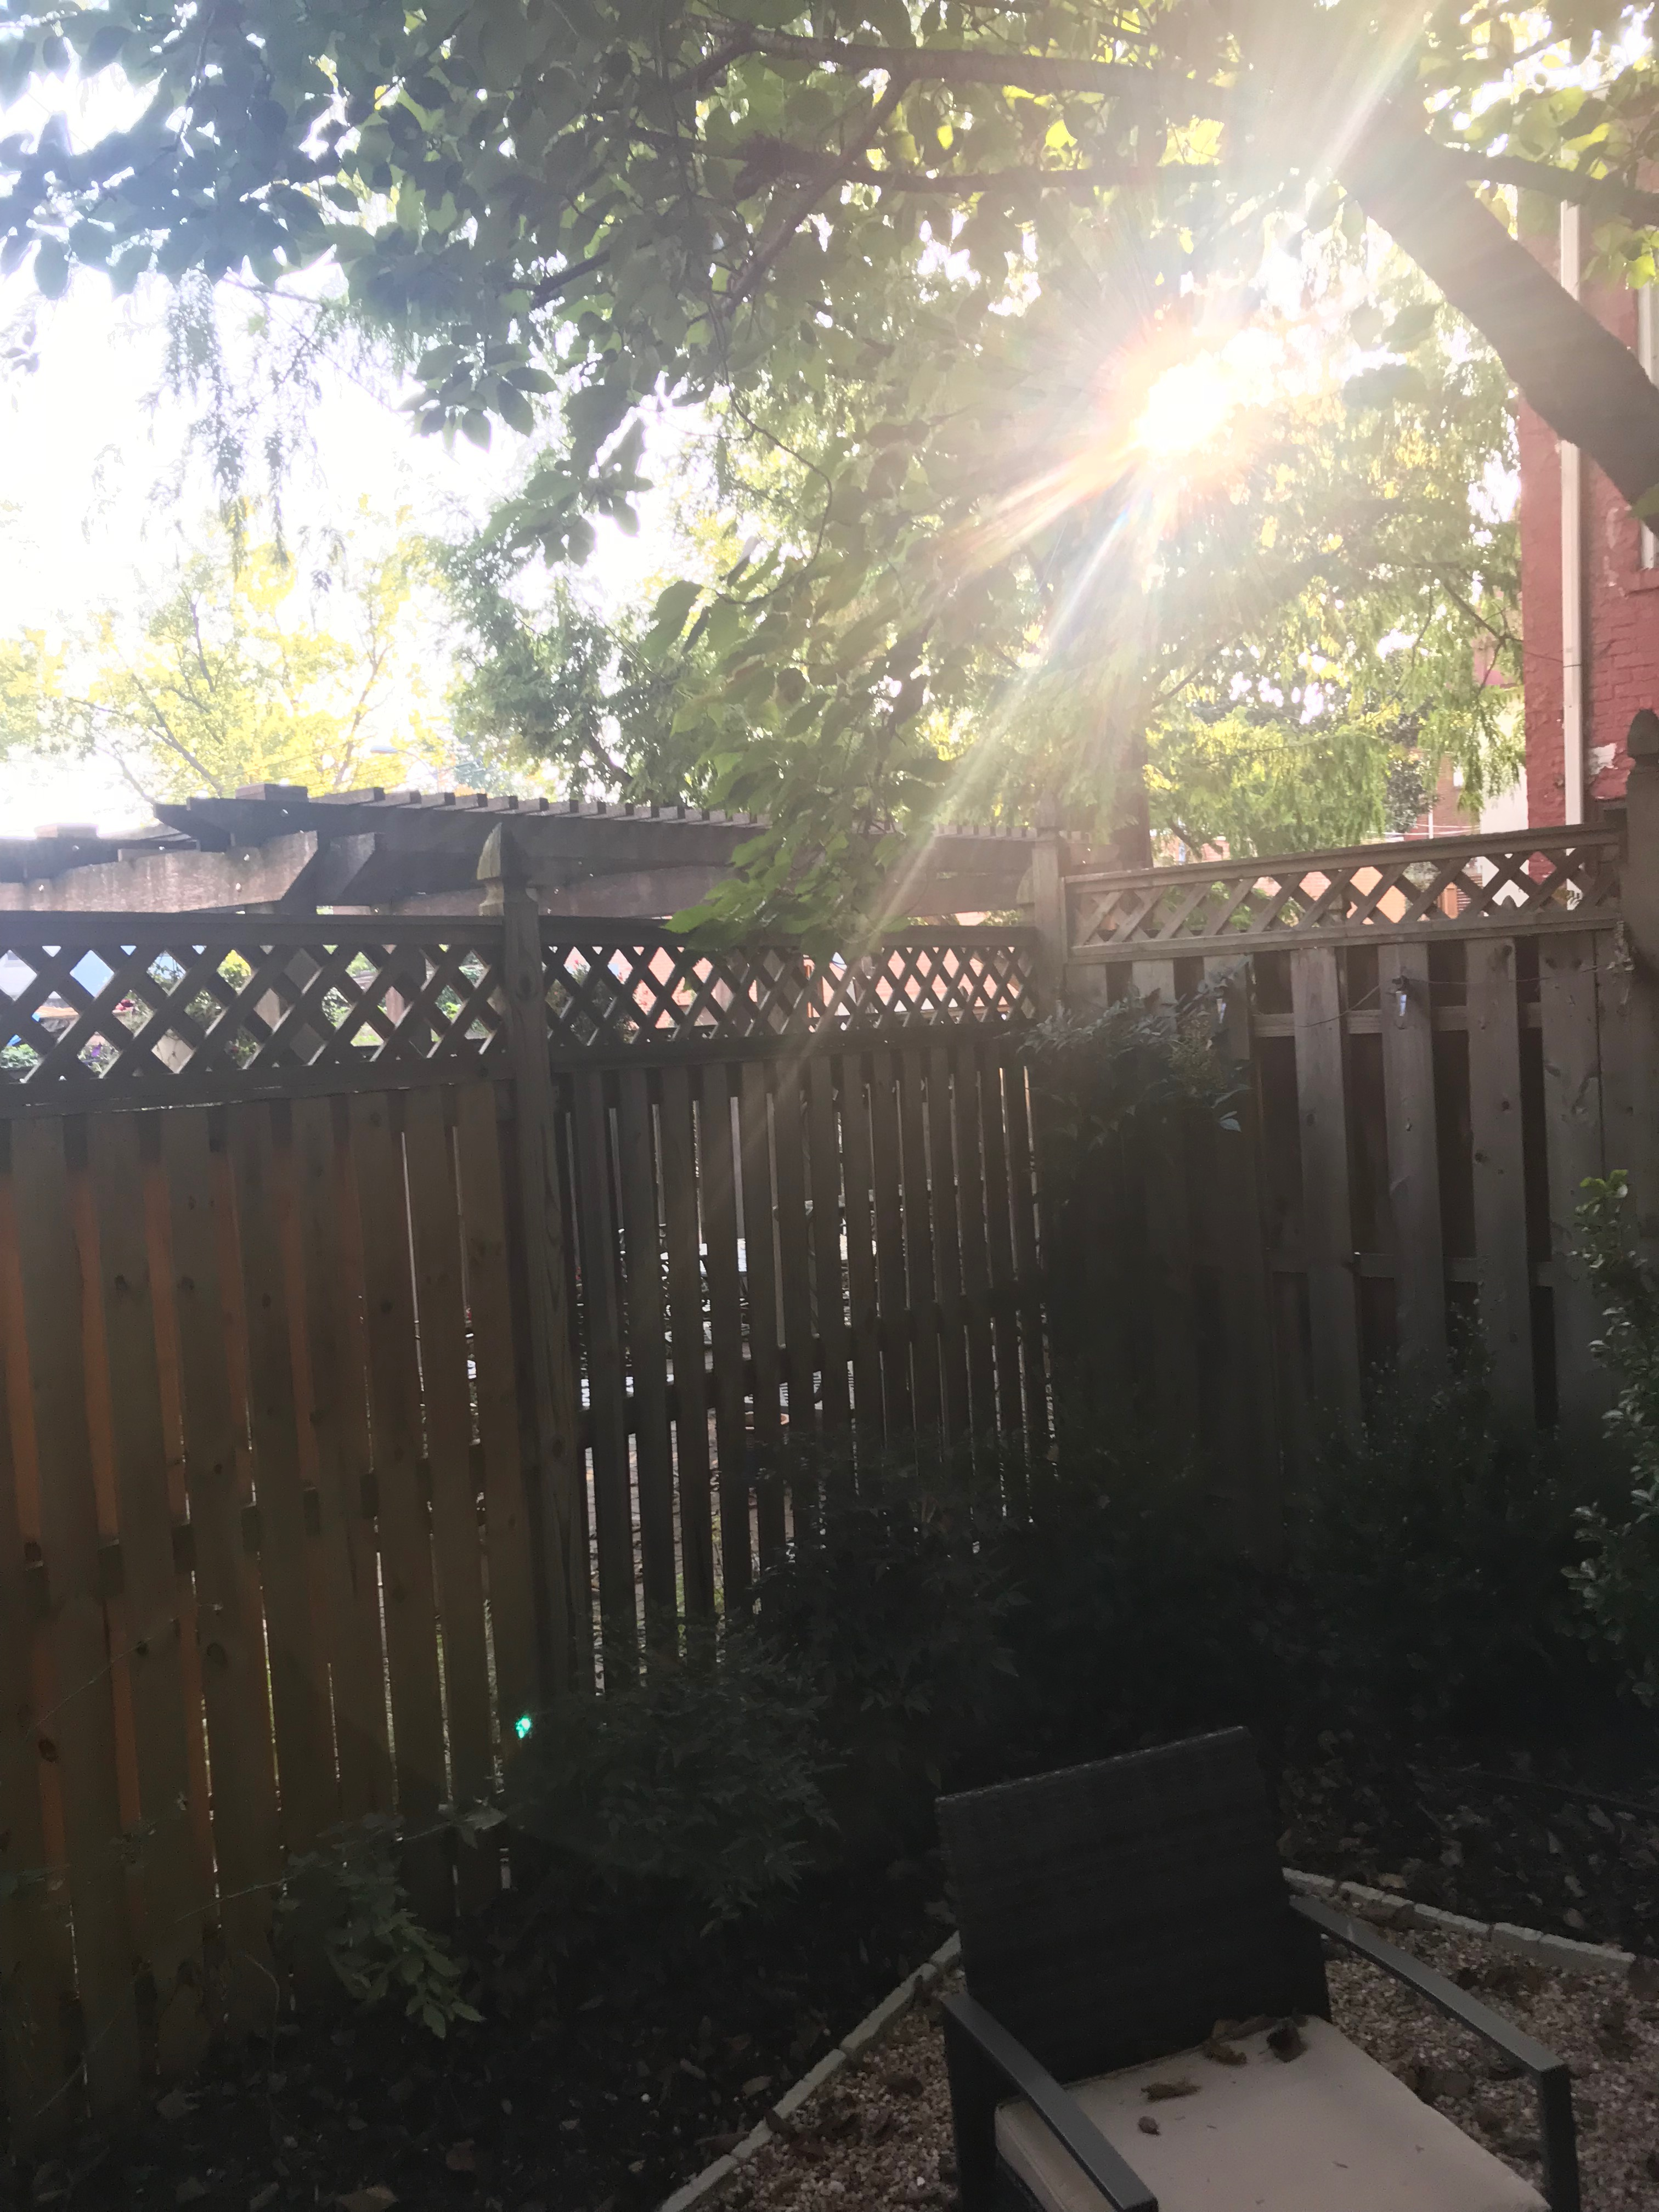flare: (514, 1714, 535, 1740)
